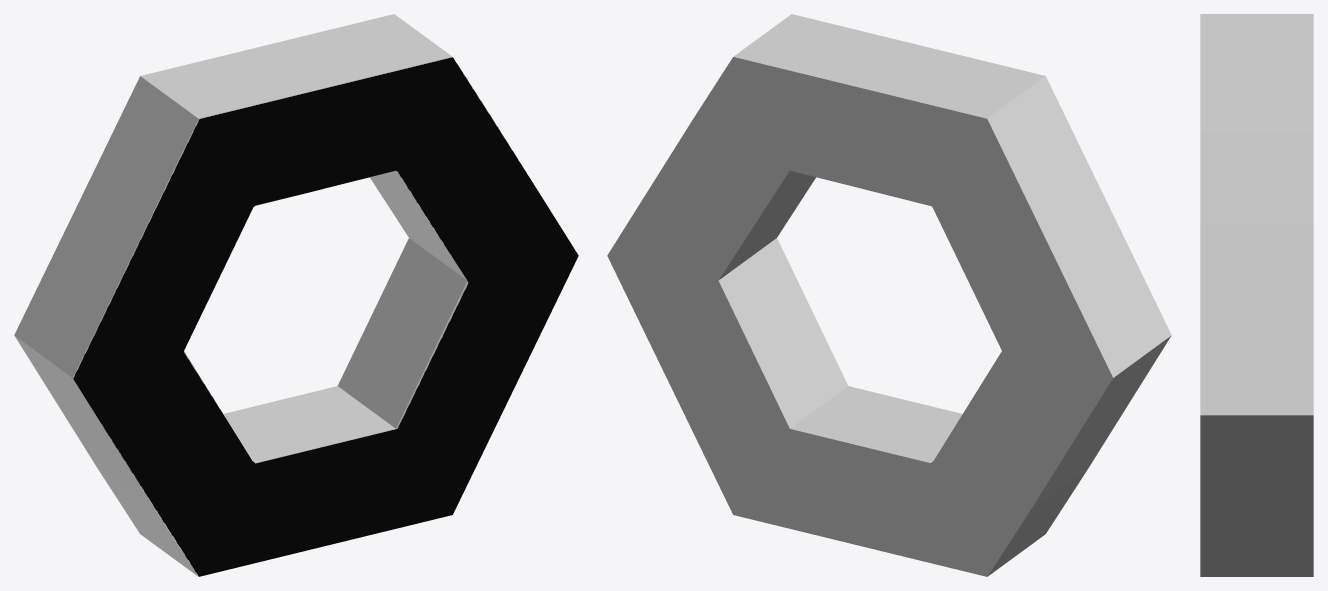
The model's file is Bolt.obj.
The picture shows the model from 3 angles, left to right: view 1: azimuth 30°, elevation 25°; view 2: azimuth 150°, elevation 25°; view 3: azimuth 270°, elevation 25°; orthographic projection. The views are drawn at different scales.
Parts seen in each view (by area): view 1: Object.1; view 2: Object.1; view 3: Object.1.
Part boxes in pixels (x1=…): Object.1: x1=14, y1=14, x2=578, y2=576; Object.1: x1=607, y1=14, x2=1171, y2=576; Object.1: x1=1200, y1=14, x2=1313, y2=576.
Size of the model in its own units: 122 by 106 by 24.51.
